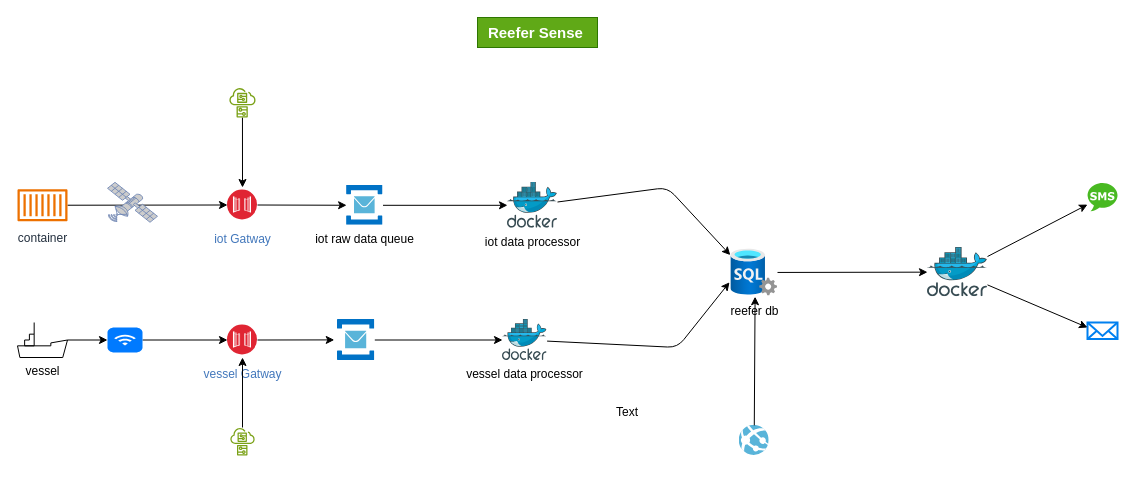
Image size: 1136x494. Some labels were removed from this diagram. The shapes that lost their labels are listed below. From the top down, each one's centre as x and y in pixels, then its label:
pixel 242 102: iot telegram simulator
pixel 957 271: Alerts/Notification engine
pixel 355 339: vessel raw data queue
pixel 242 441: vessel data simulator
pixel 754 440: Reefer Sense Web
